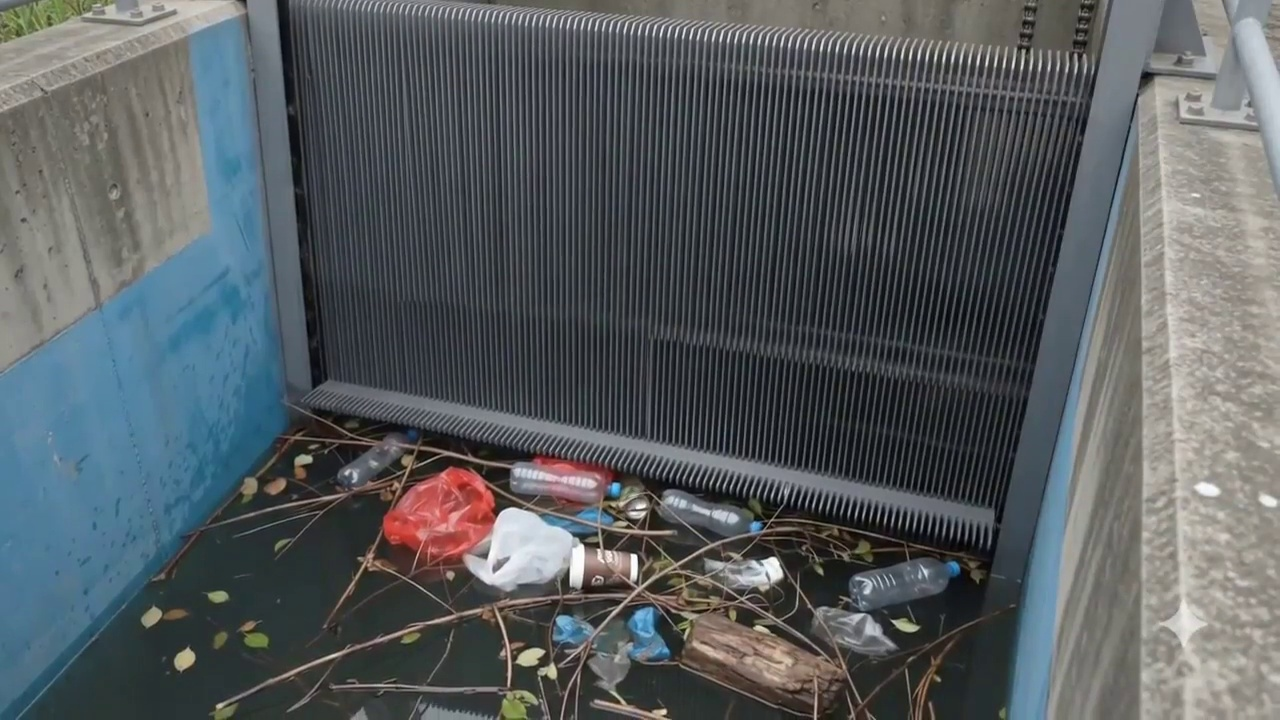debris: (328, 423, 981, 717)
